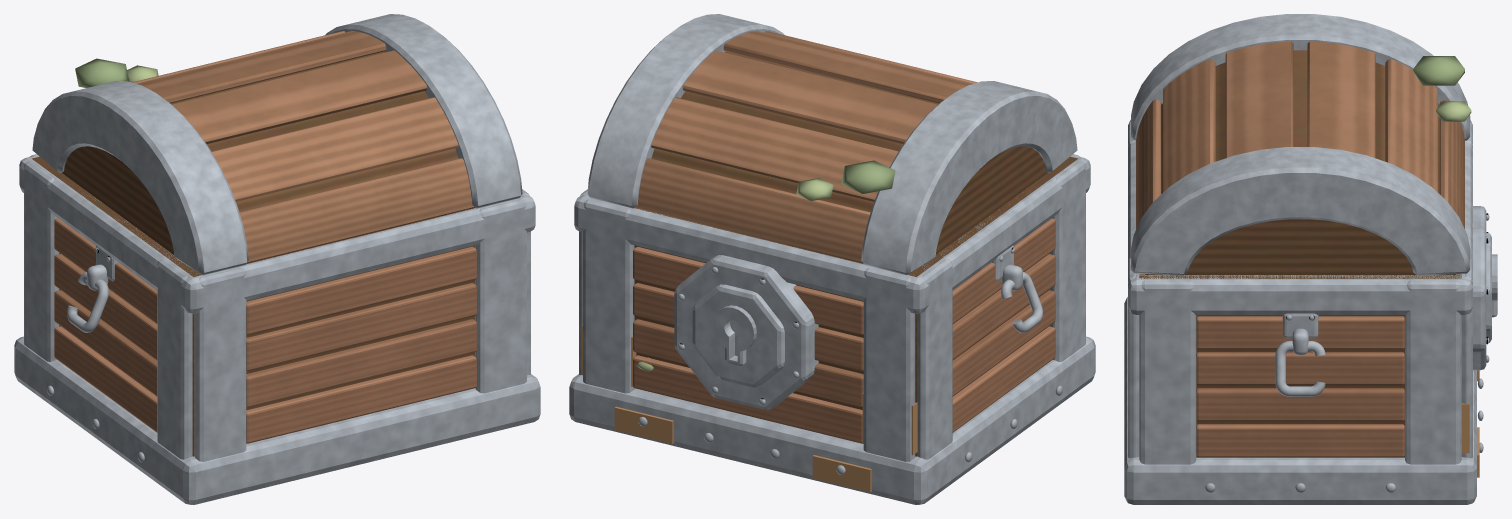
Rendered from SM_Chest_Mossy_M_01.glb.
3 renders of one model, left to right at view 1: azimuth 30°, elevation 25°; view 2: azimuth 150°, elevation 25°; view 3: azimuth 270°, elevation 25°, orthographic.
Parts seen in each view (by area): view 1: SM_Chest_Mossy_M_01_Body, SM_Chest_Mossy_M_01_Lid; view 2: SM_Chest_Mossy_M_01_Body, SM_Chest_Mossy_M_01_Lid; view 3: SM_Chest_Mossy_M_01_Body, SM_Chest_Mossy_M_01_Lid.
Boxes of the visible parts, <box> form: SM_Chest_Mossy_M_01_Body: <box>14,154,540,504</box>; SM_Chest_Mossy_M_01_Lid: <box>32,14,522,275</box>; SM_Chest_Mossy_M_01_Body: <box>569,154,1095,504</box>; SM_Chest_Mossy_M_01_Lid: <box>587,14,1077,275</box>; SM_Chest_Mossy_M_01_Body: <box>1124,119,1497,504</box>; SM_Chest_Mossy_M_01_Lid: <box>1131,14,1471,275</box>.
Size of the model in its own units: 2.45 by 1.93 by 1.97.
Materials: 2 (2 with a texture image).
